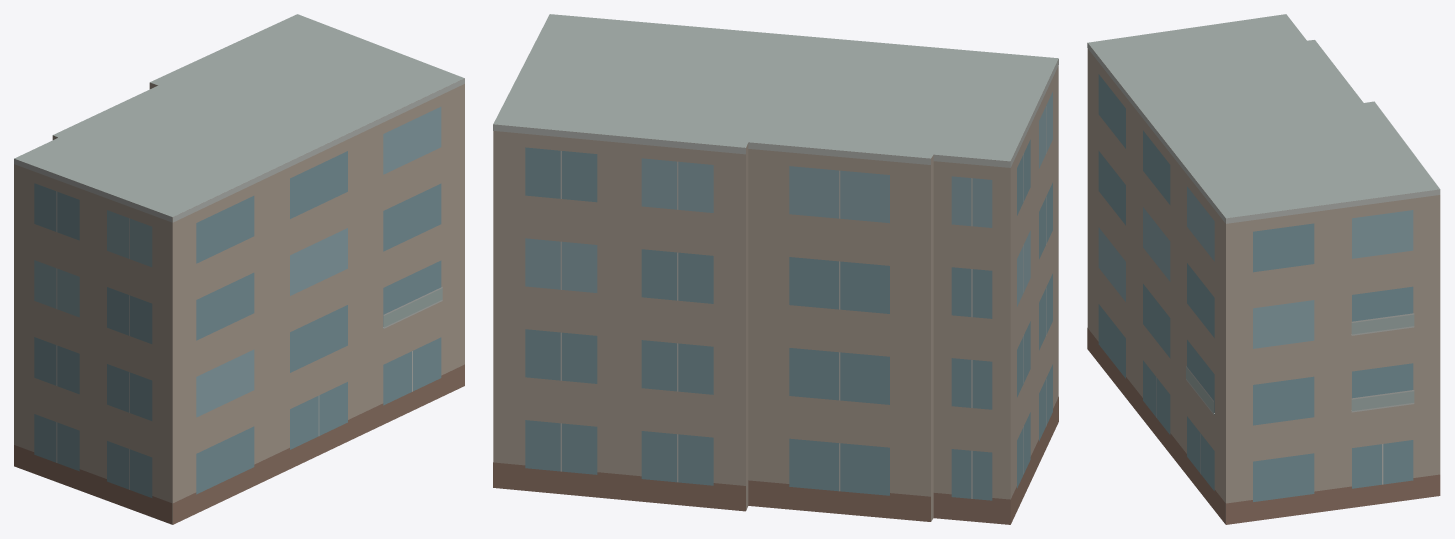
The model's file is survey-upis-32720115.glb.
The picture shows the model from 3 angles, left to right: view 1: azimuth 30°, elevation 25°; view 2: azimuth 150°, elevation 25°; view 3: azimuth 270°, elevation 25°; orthographic projection. The views are drawn at different scales.
Visible parts, largest first — view 1: survey-upis-32720115.tmp; view 2: survey-upis-32720115.tmp; view 3: survey-upis-32720115.tmp.
Boxes of the visible parts, <box> form: survey-upis-32720115.tmp: <box>14,14,464,524</box>; survey-upis-32720115.tmp: <box>493,14,1058,524</box>; survey-upis-32720115.tmp: <box>1087,14,1440,524</box>.
Bounding box in the file's own units: 19.46 × 13.6 × 14.2.
